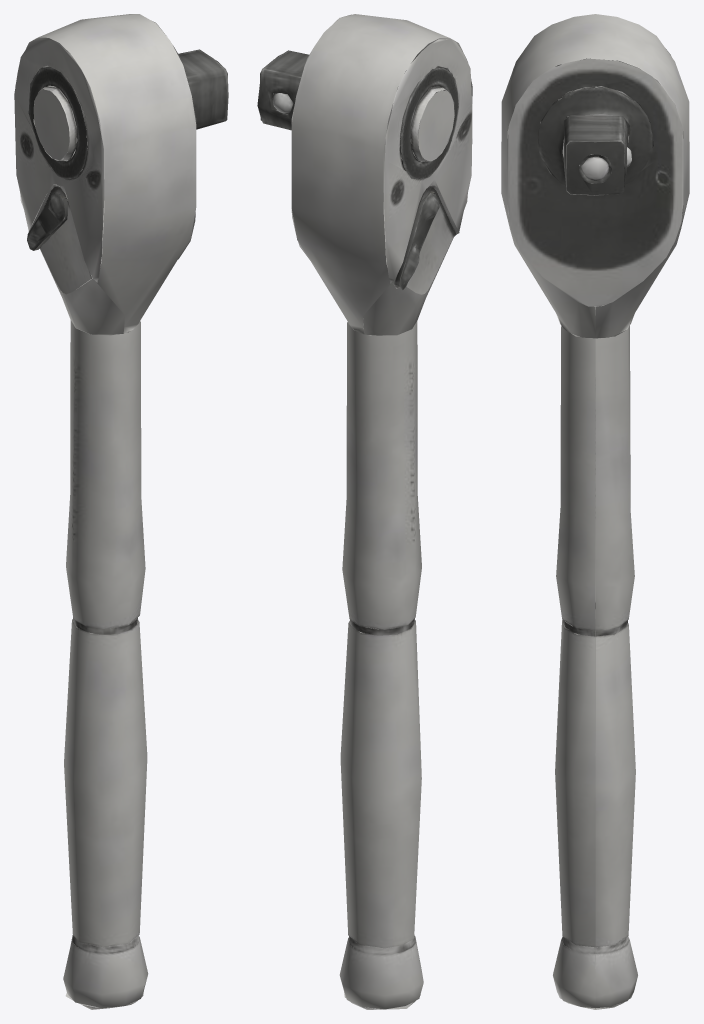
File: ratchet_wrench.glb
3 renders of one model, left to right at view 1: azimuth 30°, elevation 25°; view 2: azimuth 150°, elevation 25°; view 3: azimuth 270°, elevation 25°, orthographic.
Visible parts, largest first — view 1: ratchet_wrench; view 2: ratchet_wrench; view 3: ratchet_wrench.
Boxes of the visible parts, x1,y1,x2,y2 form: ratchet_wrench: (14, 14, 228, 1009); ratchet_wrench: (257, 14, 472, 1009); ratchet_wrench: (501, 14, 689, 1009).
Bounding box in the file's own units: 0.0444 × 0.2459 × 0.0435.
Materials: 1 (1 with a texture image).
